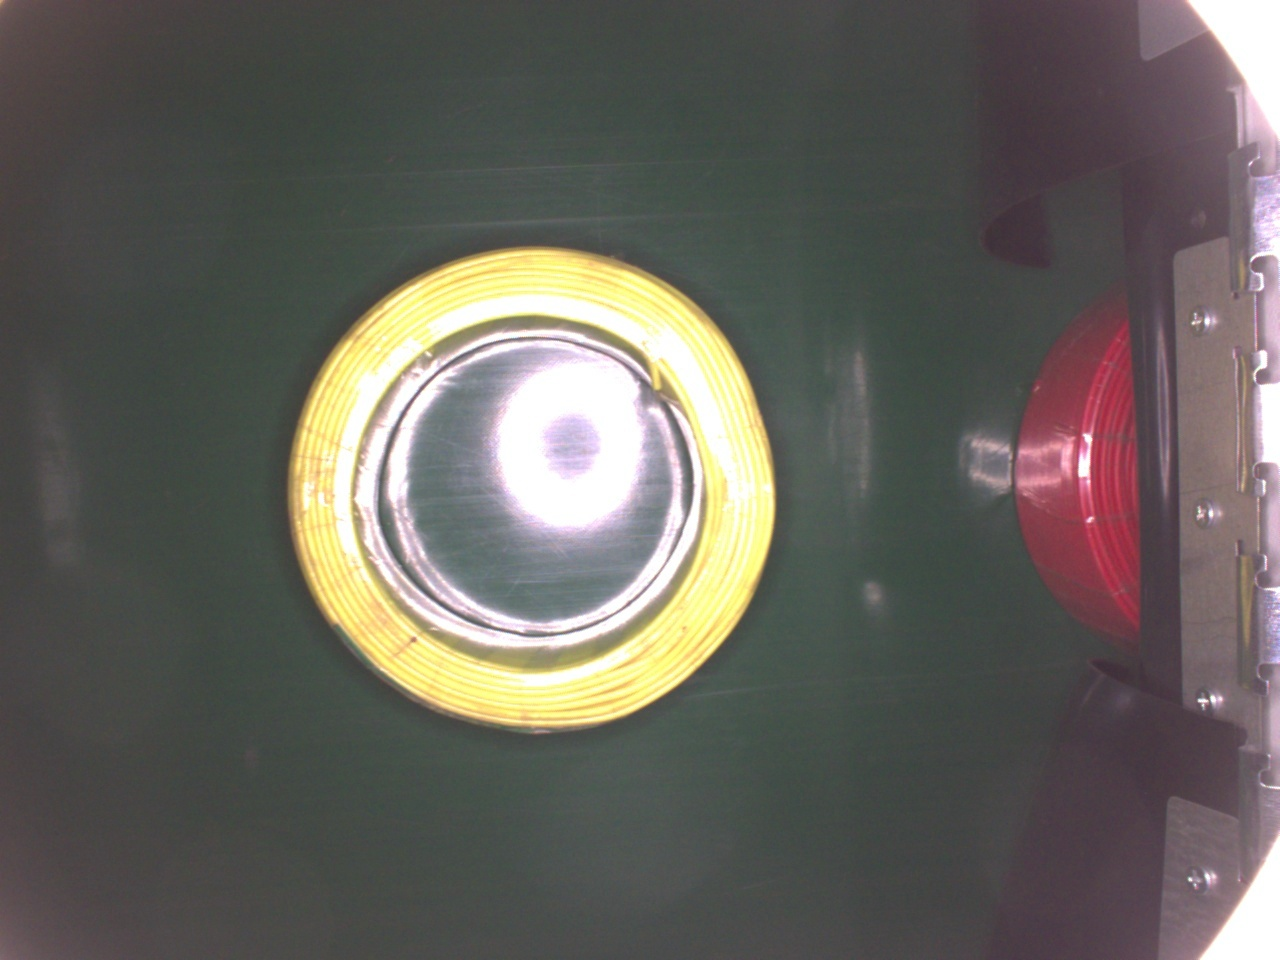red: (1009, 284, 1144, 645)
yellow: (288, 242, 783, 740)
